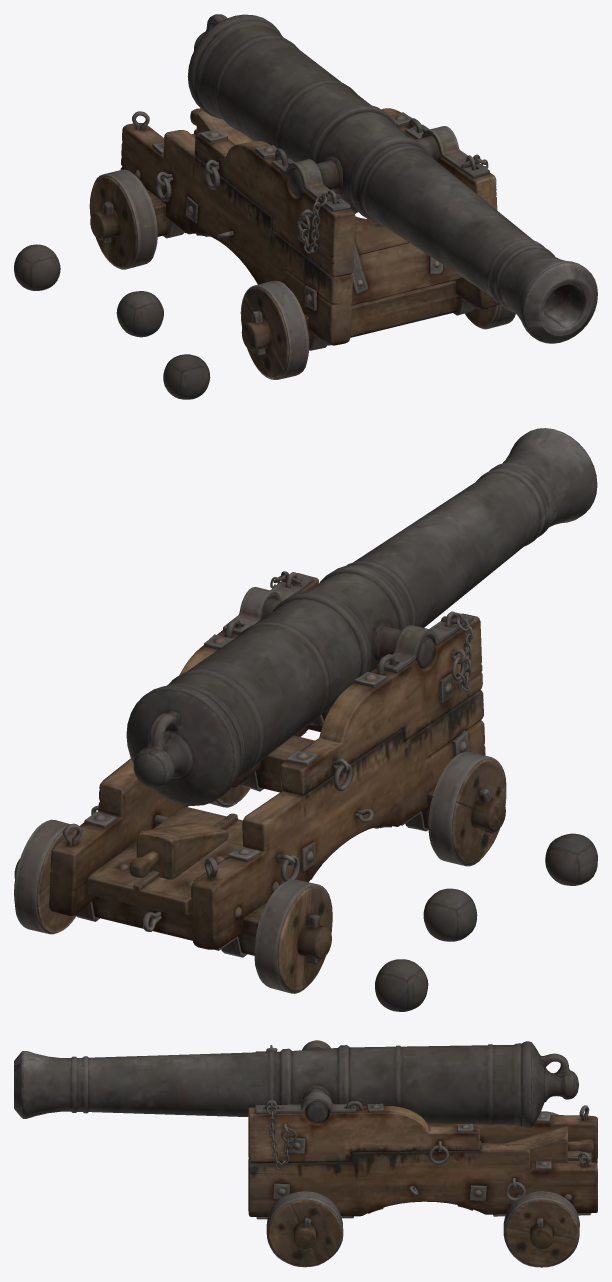
The model's file is design-cannon-01.glb.
The picture shows the model from 3 angles, top to bottom: view 1: azimuth 30°, elevation 25°; view 2: azimuth 150°, elevation 25°; view 3: azimuth 270°, elevation 25°; orthographic projection. The views are drawn at different scales.
Parts seen in each view (by area): view 1: cannon_01_ball_01; view 2: cannon_01_ball_01; view 3: cannon_01_ball_01.
Boxes of the visible parts, left/top/right/bottom form: cannon_01_ball_01: left=14, top=14, right=597, bottom=399; cannon_01_ball_01: left=14, top=428, right=597, bottom=1011; cannon_01_ball_01: left=14, top=1040, right=597, bottom=1267.
Bounding box in the file's own units: 1.23 × 0.7759 × 2.3.
1 material, 1 textured.
